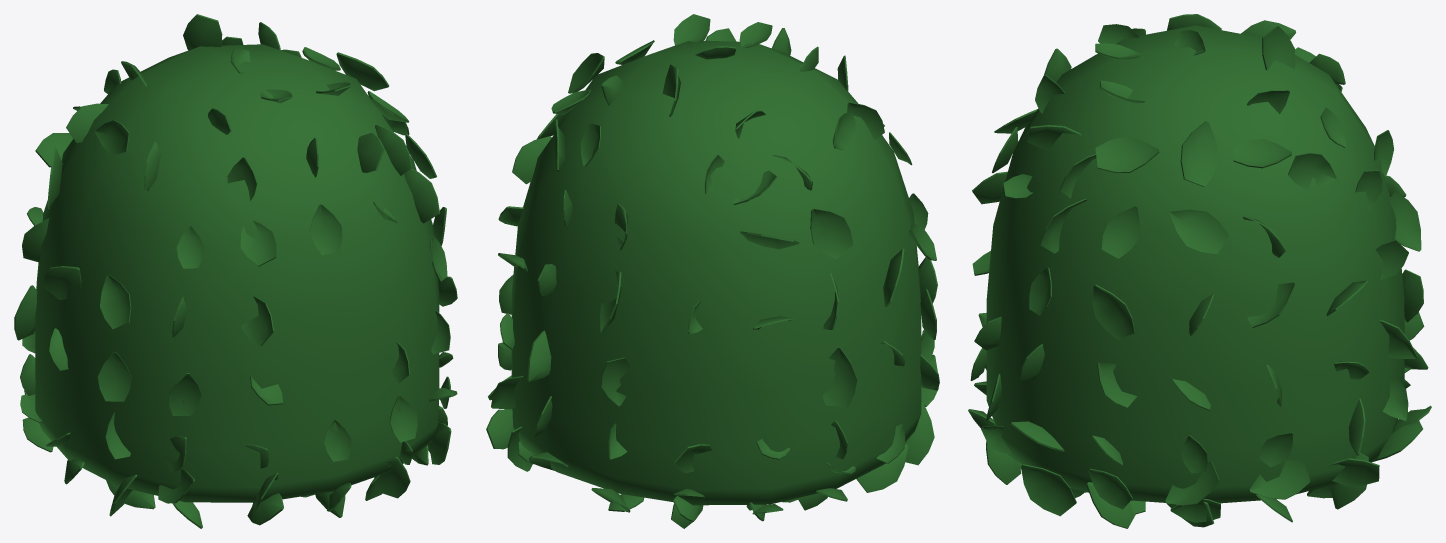
Rendered from shrub.fbx.
3 renders of one model, left to right at view 1: azimuth 30°, elevation 25°; view 2: azimuth 150°, elevation 25°; view 3: azimuth 270°, elevation 25°, orthographic. The views are drawn at different scales.
Visible parts, largest first — view 1: shrub; view 2: shrub; view 3: shrub.
Boxes of the visible parts, x1,y1,x2,y2 form: shrub: [14, 14, 457, 528]; shrub: [486, 14, 939, 528]; shrub: [968, 14, 1431, 528].
Bounding box in the file's own units: 717 × 745 × 729.
